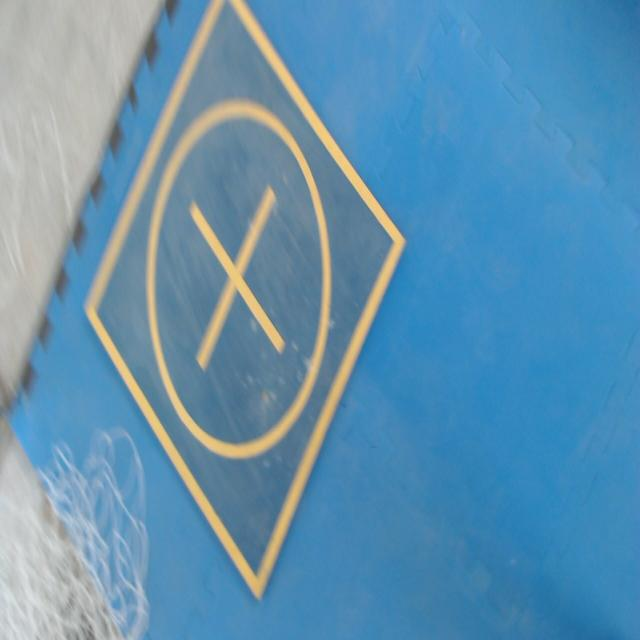base_pouso: (84, 0, 405, 602)
